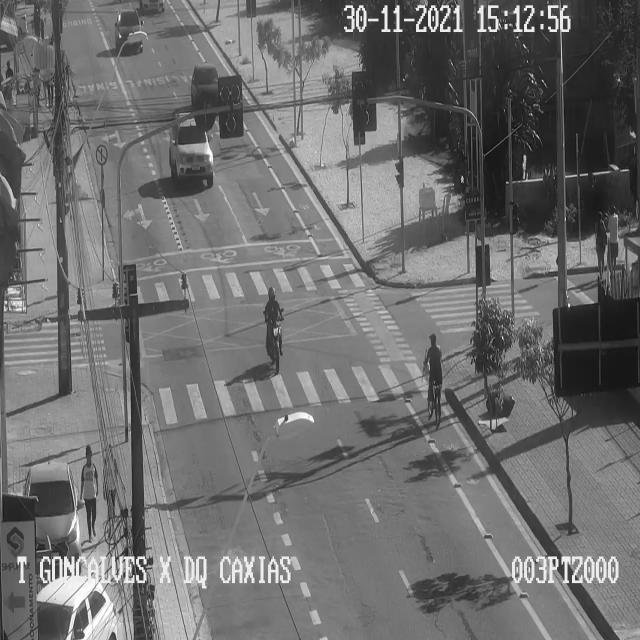Car: (24, 462, 80, 572), (37, 575, 117, 639), (169, 112, 213, 186), (191, 63, 219, 109), (114, 8, 142, 51)
Motorcycle: (264, 286, 284, 372)
